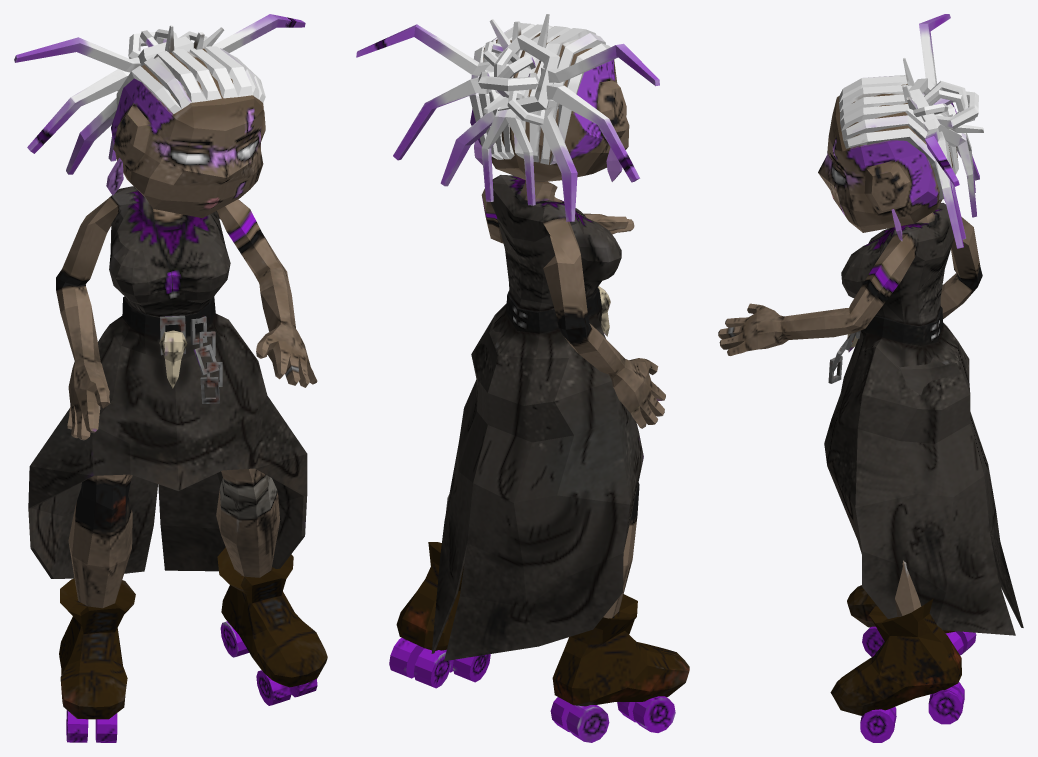
File: bruja_000036.obj
The picture shows the model from 3 angles, left to right: view 1: azimuth 30°, elevation 25°; view 2: azimuth 150°, elevation 25°; view 3: azimuth 270°, elevation 25°; orthographic projection. The views are drawn at different scales.
Parts seen in each view (by area): view 1: Bruja_Plane.001; view 2: Bruja_Plane.001; view 3: Bruja_Plane.001.
Part boxes in pixels (<box>): Bruja_Plane.001: <box>14,14,327,742</box>; Bruja_Plane.001: <box>356,14,689,742</box>; Bruja_Plane.001: <box>718,14,1023,742</box>.
Bounding box in the file's own units: 7.41 × 16.57 × 7.24.
